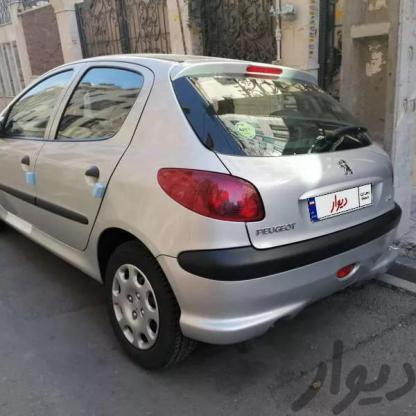Car: (0, 55, 397, 363)
